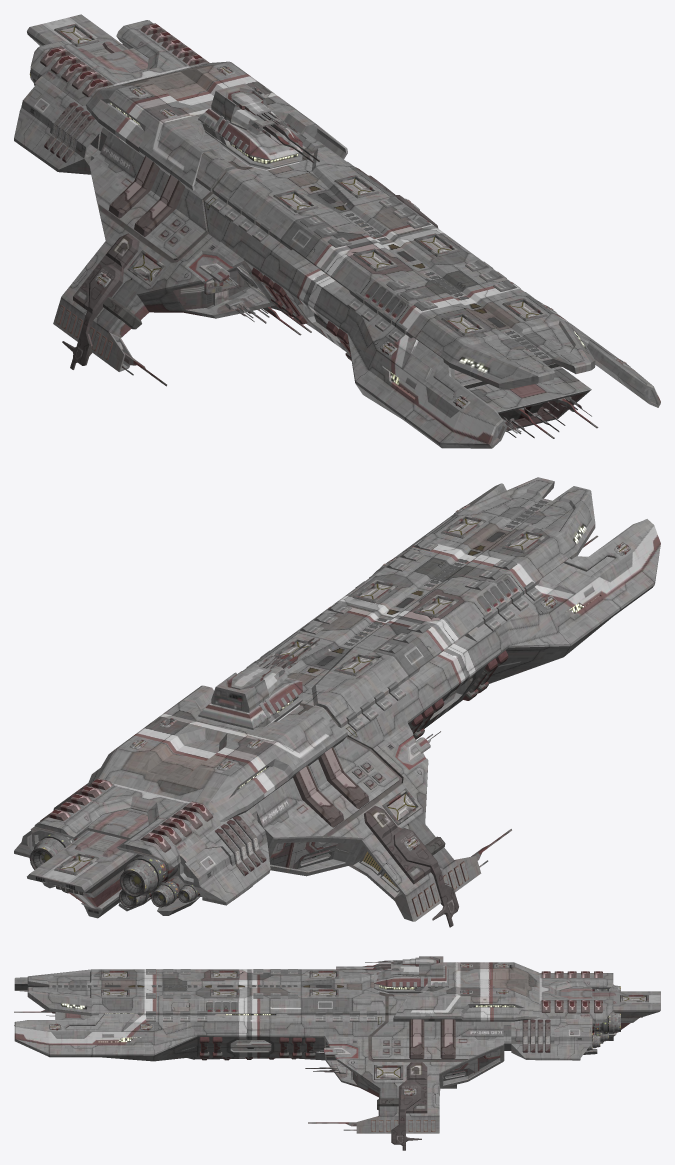
Rendered from paladin_battleship.glb.
3 views of the same model, one above another, from view 1: azimuth 30°, elevation 25°; view 2: azimuth 150°, elevation 25°; view 3: azimuth 270°, elevation 25° (orthographic). The views are drawn at different scales.
Visible parts, largest first — view 1: Paladin_LOD0; view 2: Paladin_LOD0; view 3: Paladin_LOD0, Door1_top_LOD0.
Boxes of the visible parts, left/top/right/bottom form: Paladin_LOD0: left=14, top=14, right=660, bottom=448; Paladin_LOD0: left=14, top=477, right=660, bottom=927; Paladin_LOD0: left=14, top=956, right=660, bottom=1150; Door1_top_LOD0: left=230, top=1040, right=271, bottom=1047.
Bounding box in the file's own units: 3.74 × 1.99 × 8.82.
3 materials, 3 textured.
